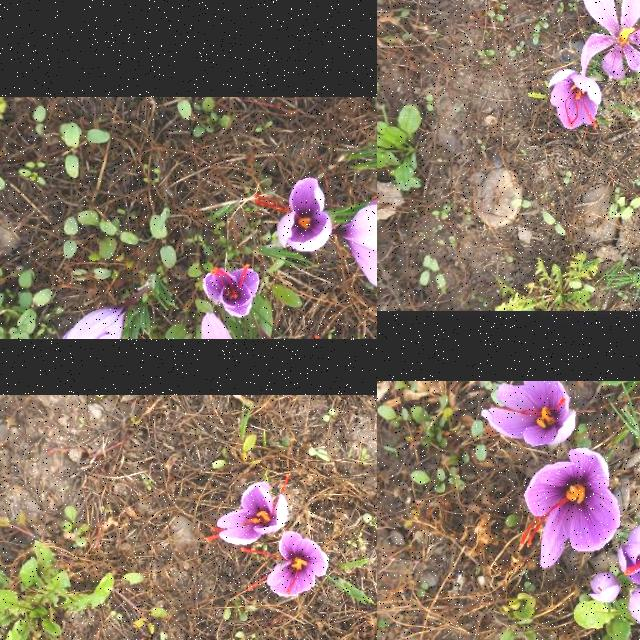flower: (518, 448, 622, 570), (479, 382, 577, 448), (206, 473, 290, 545), (240, 532, 330, 598), (254, 178, 332, 252), (580, 0, 640, 81), (156, 313, 305, 339), (342, 193, 377, 292), (548, 68, 602, 130), (202, 264, 260, 318), (50, 303, 128, 339), (617, 522, 640, 587)
